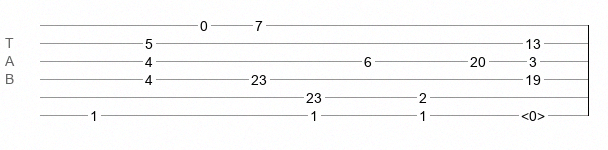0: (200, 18, 208, 28)
1: (90, 108, 98, 118), (310, 108, 318, 118), (419, 108, 427, 118)
13: (525, 36, 541, 46)
19: (525, 72, 541, 82)
2: (419, 90, 427, 100)
20: (470, 54, 486, 64)
23: (251, 72, 267, 82), (306, 90, 322, 100)
3: (529, 54, 537, 64)
4: (145, 72, 153, 82), (145, 54, 153, 64)
5: (145, 36, 153, 46)
6: (364, 54, 372, 64)
7: (255, 18, 263, 28)
harmonic: (521, 108, 545, 118)
